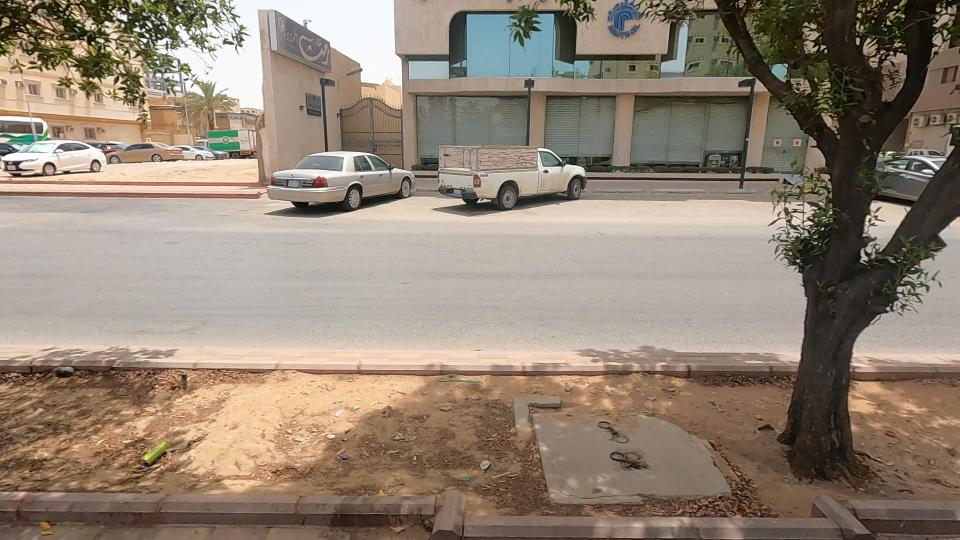CLUTTER_SIDEWALK: (0, 307, 679, 540)
GARBAGE: (97, 423, 210, 483)
